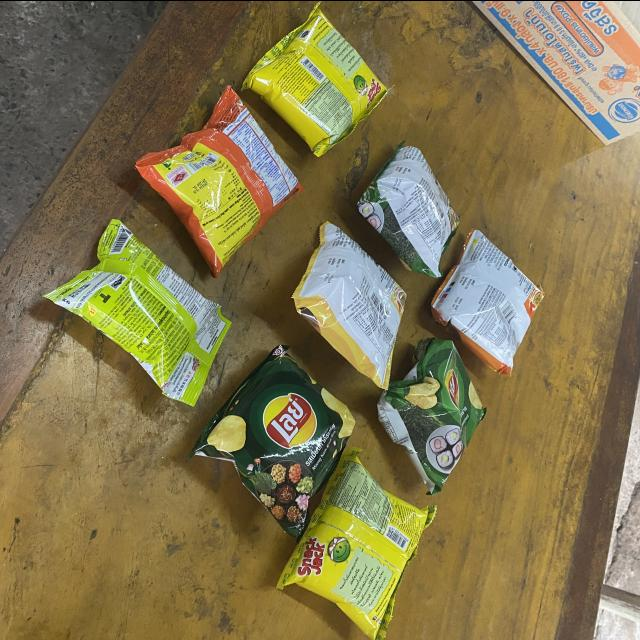plastik: (45, 219, 230, 405), (188, 344, 355, 537), (135, 85, 302, 275), (278, 446, 437, 640), (243, 2, 388, 156), (293, 221, 406, 388), (378, 337, 487, 495), (432, 228, 545, 374), (357, 142, 460, 276)
